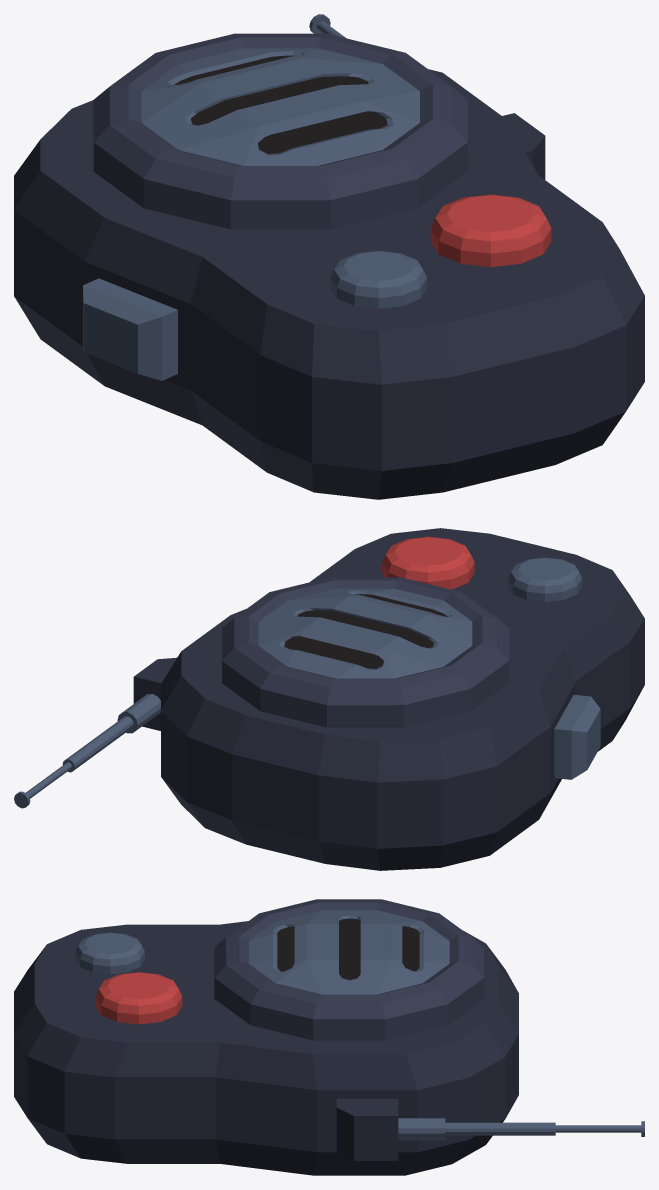
Rendered from SpiritBox.fbx.
3 views of the same model, one above another, from view 1: azimuth 30°, elevation 25°; view 2: azimuth 150°, elevation 25°; view 3: azimuth 270°, elevation 25° (orthographic). The views are drawn at different scales.
Visible parts, largest first — view 1: Spiritbox, Side Button, Button 1, Button 2; view 2: Spiritbox, Button 1, Side Button, Button 2; view 3: Spiritbox, Button 1, Button 2.
Boxes of the visible parts, <box> form: Spiritbox: <box>14,14,644,499</box>; Side Button: <box>83,278,177,380</box>; Button 1: <box>430,194,551,266</box>; Button 2: <box>330,250,426,308</box>; Spiritbox: <box>14,528,644,870</box>; Button 1: <box>382,536,474,589</box>; Side Button: <box>554,694,600,779</box>; Button 2: <box>508,557,582,601</box>; Spiritbox: <box>14,899,644,1175</box>; Button 1: <box>95,972,182,1024</box>; Button 2: <box>75,932,144,974</box>.
Bounding box in the file's own units: 8.42 × 3.57 × 12.5.
